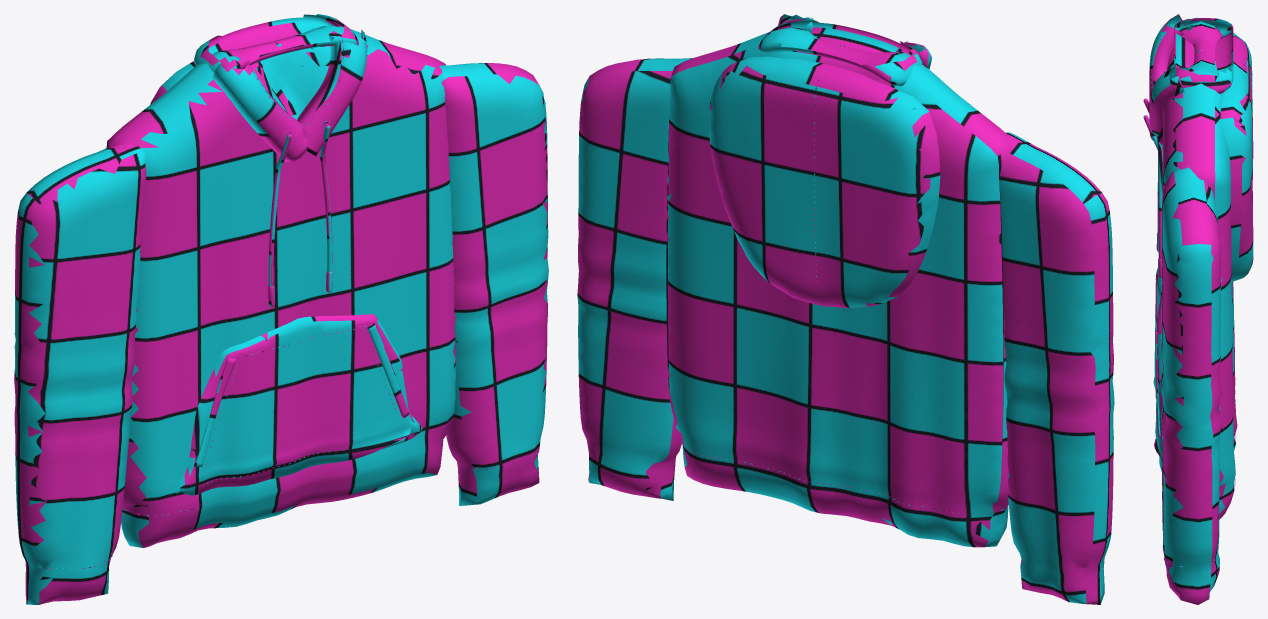
The model's file is grab3d-hoodie-clean-v2-uv-checker.glb.
The picture shows the model from 3 angles, left to right: view 1: azimuth 30°, elevation 25°; view 2: azimuth 150°, elevation 25°; view 3: azimuth 270°, elevation 25°; orthographic projection. The views are drawn at different scales.
Parts seen in each view (by area): view 1: hoodie_body; view 2: hoodie_body; view 3: hoodie_body.
Part boxes in pixels (bbox=[...]): hoodie_body: bbox=[14, 14, 548, 604]; hoodie_body: bbox=[577, 14, 1114, 604]; hoodie_body: bbox=[1143, 14, 1253, 604].
Size of the model in its own units: 0.8278 by 0.7602 by 0.167.
Materials: 1 (1 with a texture image).
